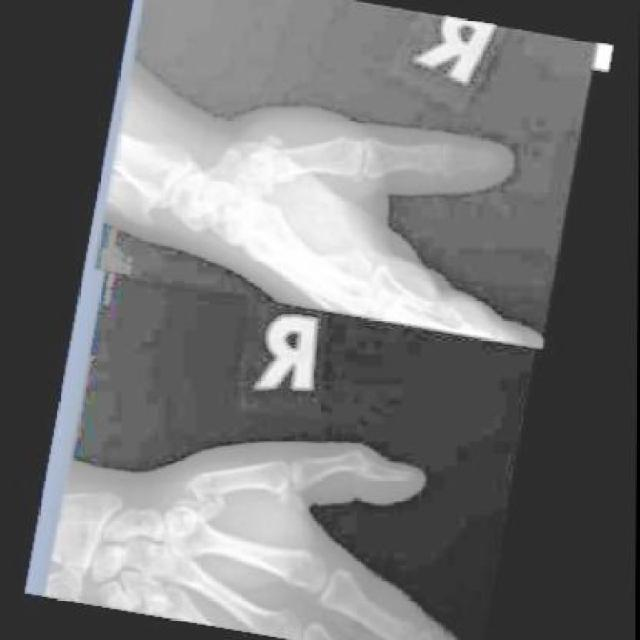Fracture: (229, 125, 294, 196), (174, 468, 238, 533)
